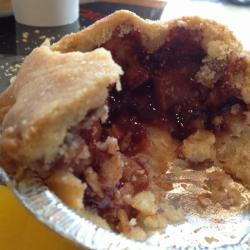apple_pie: (5, 17, 250, 205)
